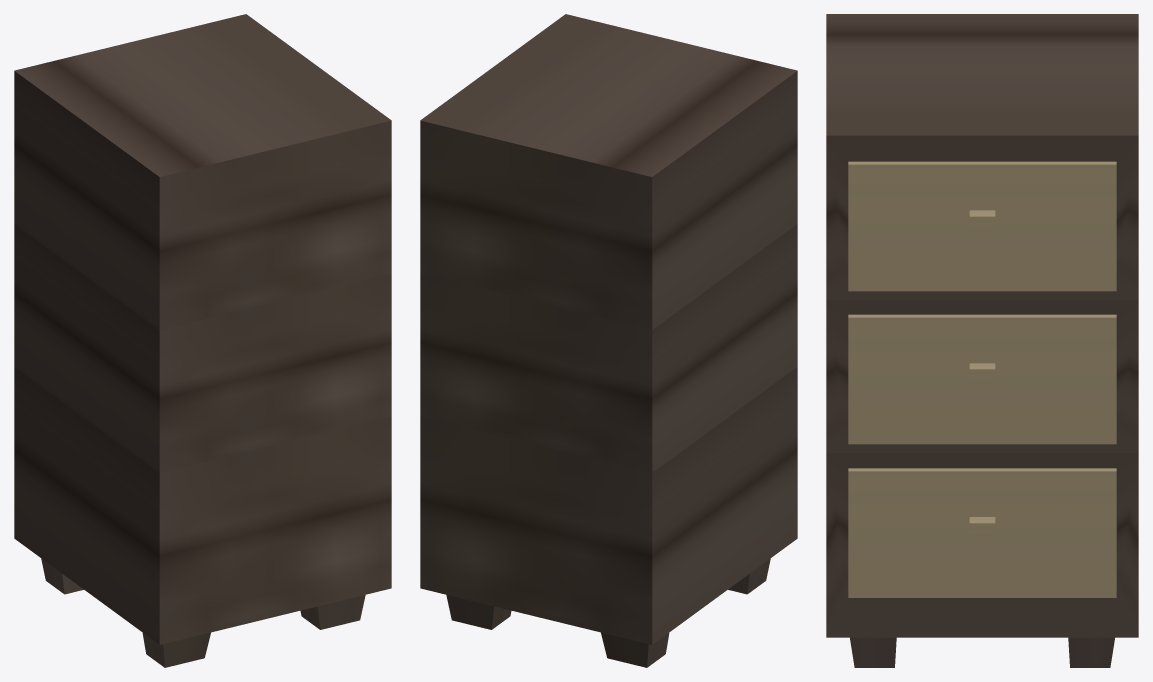
Rendered from Dresser.fbx.
The picture shows the model from 3 angles, left to right: view 1: azimuth 30°, elevation 25°; view 2: azimuth 150°, elevation 25°; view 3: azimuth 270°, elevation 25°; orthographic projection. The views are drawn at different scales.
Visible parts, largest first — view 1: Dresser; view 2: Dresser; view 3: Dresser, Drawer2, Drawer1, Drawer3.
Part boxes in pixels (x1=…): Dresser: x1=14, y1=14, x2=391, y2=667; Dresser: x1=420, y1=14, x2=797, y2=667; Dresser: x1=826, y1=14, x2=1138, y2=667; Drawer2: x1=848, y1=314, x2=1116, y2=444; Drawer1: x1=848, y1=161, x2=1116, y2=291; Drawer3: x1=848, y1=468, x2=1116, y2=597.
Bounding box in the file's own units: 30.66 × 30.35 × 58.69.
